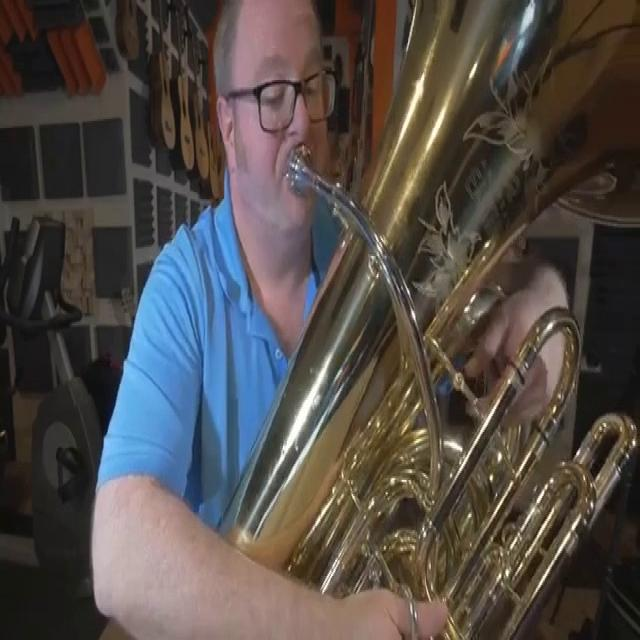Tuba: (199, 0, 640, 640)
